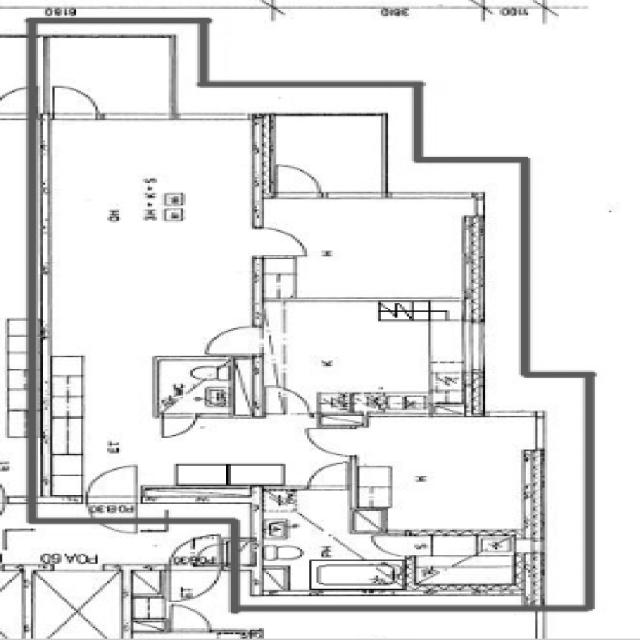door: (148, 354, 262, 419), (80, 460, 145, 509), (197, 322, 270, 359), (248, 222, 316, 260), (46, 83, 106, 123), (269, 160, 327, 200), (168, 533, 230, 570), (301, 423, 362, 458), (171, 565, 226, 603), (303, 458, 355, 492), (264, 386, 314, 419), (154, 410, 203, 443), (165, 602, 214, 633), (367, 534, 415, 558)
window: (457, 314, 492, 376), (384, 188, 480, 204), (96, 109, 176, 123), (318, 188, 388, 202)
zone: (31, 116, 261, 375), (260, 299, 479, 416), (254, 195, 487, 304), (350, 416, 542, 538), (244, 490, 404, 602), (404, 533, 521, 597), (28, 565, 126, 639), (152, 356, 257, 418), (141, 484, 260, 510)
